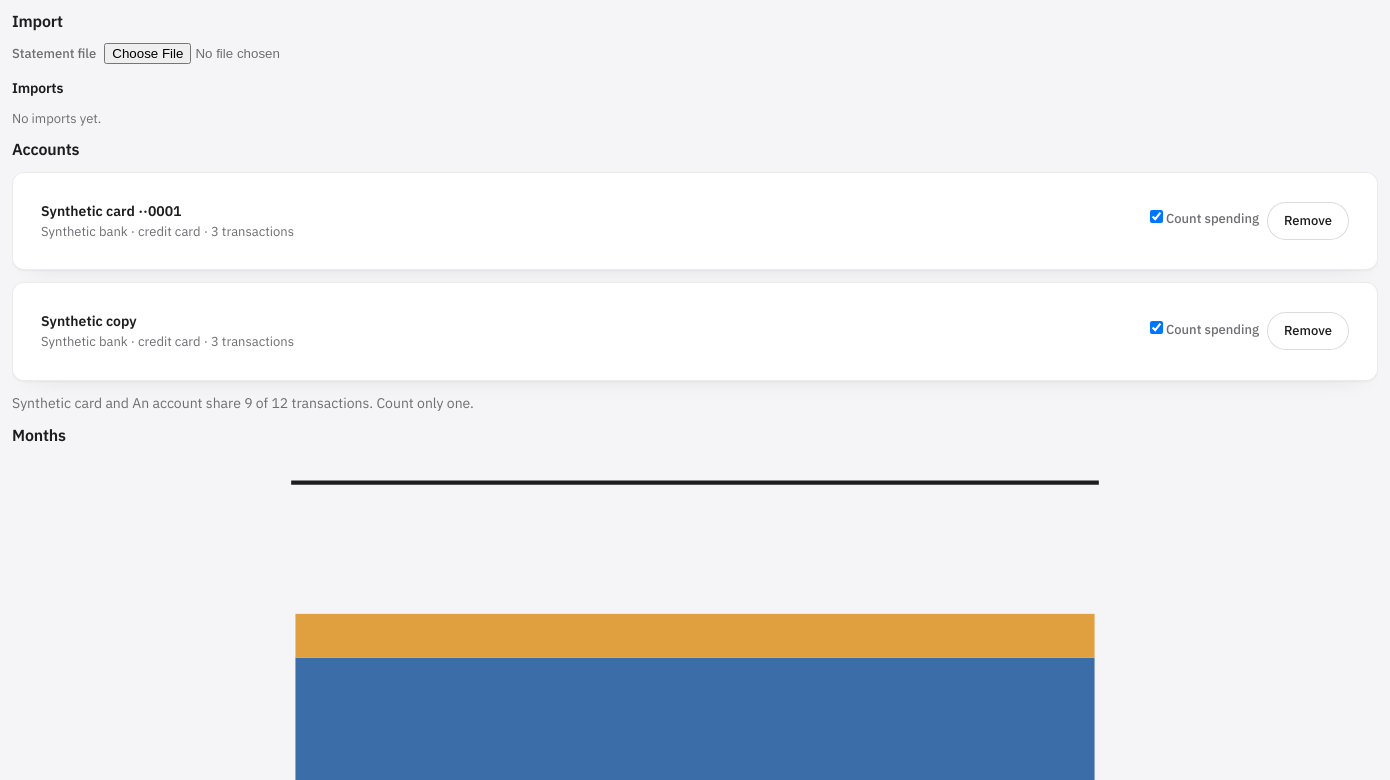
Test case: reports load and save failures
Click the checkbox labelled "Count spending" in the row of "··0001".
click(1156, 217)  # box x1=1150 y1=210 x2=1163 y2=223
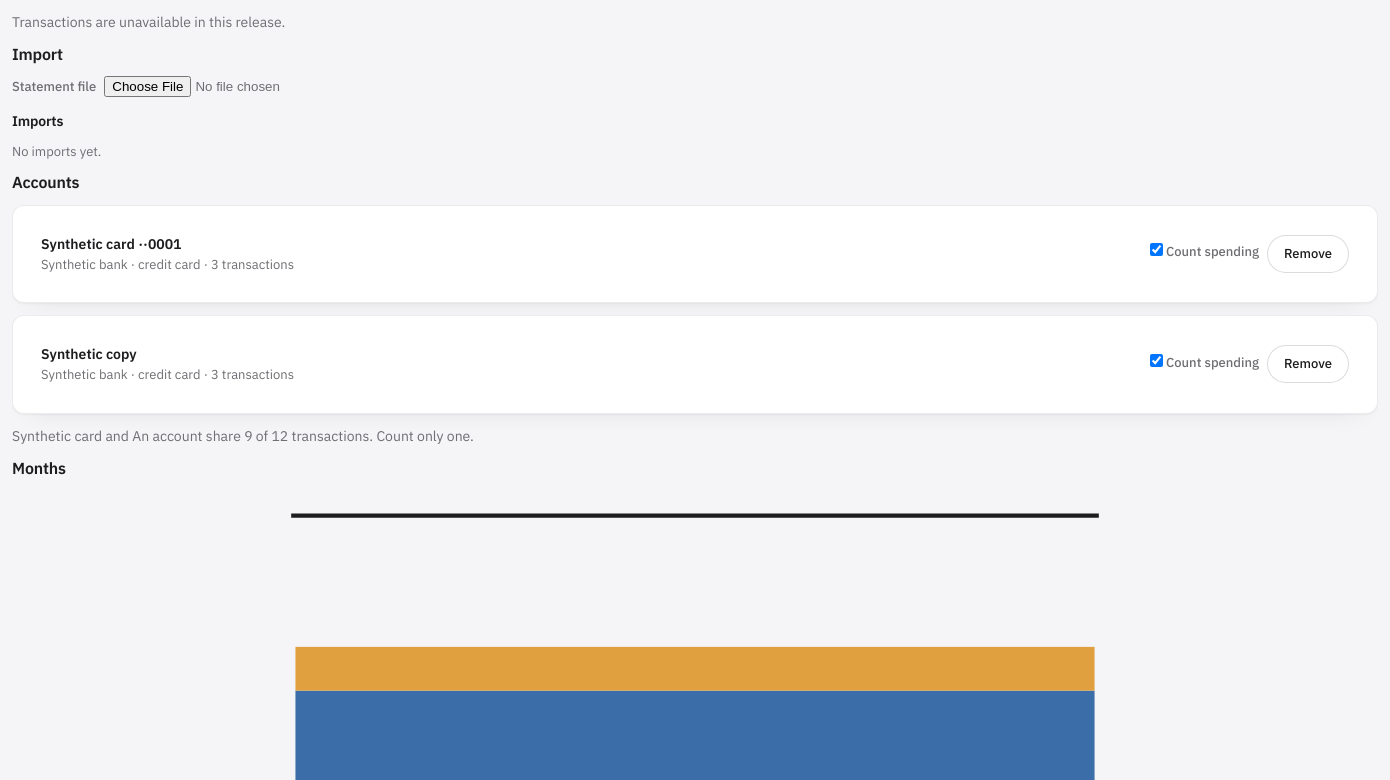
Expected: the message "Transactions are unavailable in this release." is shown, x1=12 y1=13 x2=285 y2=31
